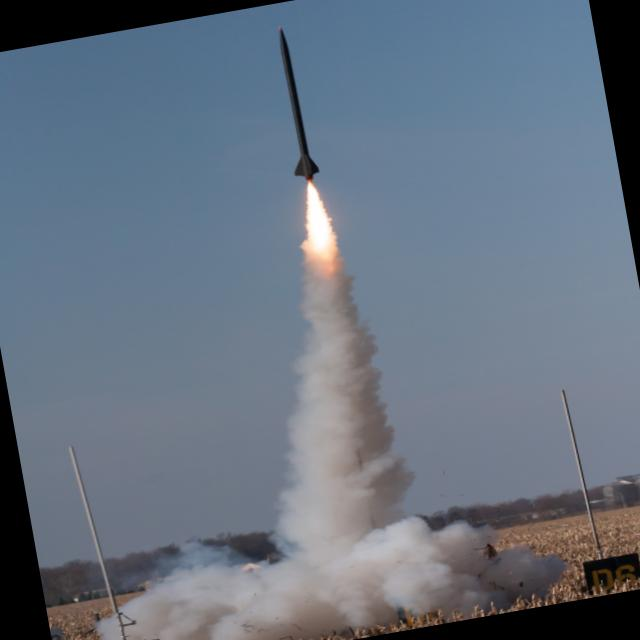rocket: (259, 18, 353, 252)
